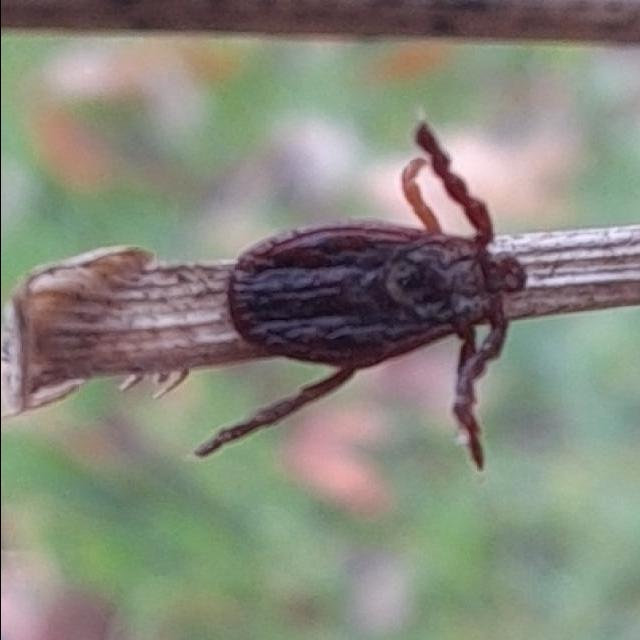Dermacentor Reticulatus-F: (191, 122, 541, 470)
